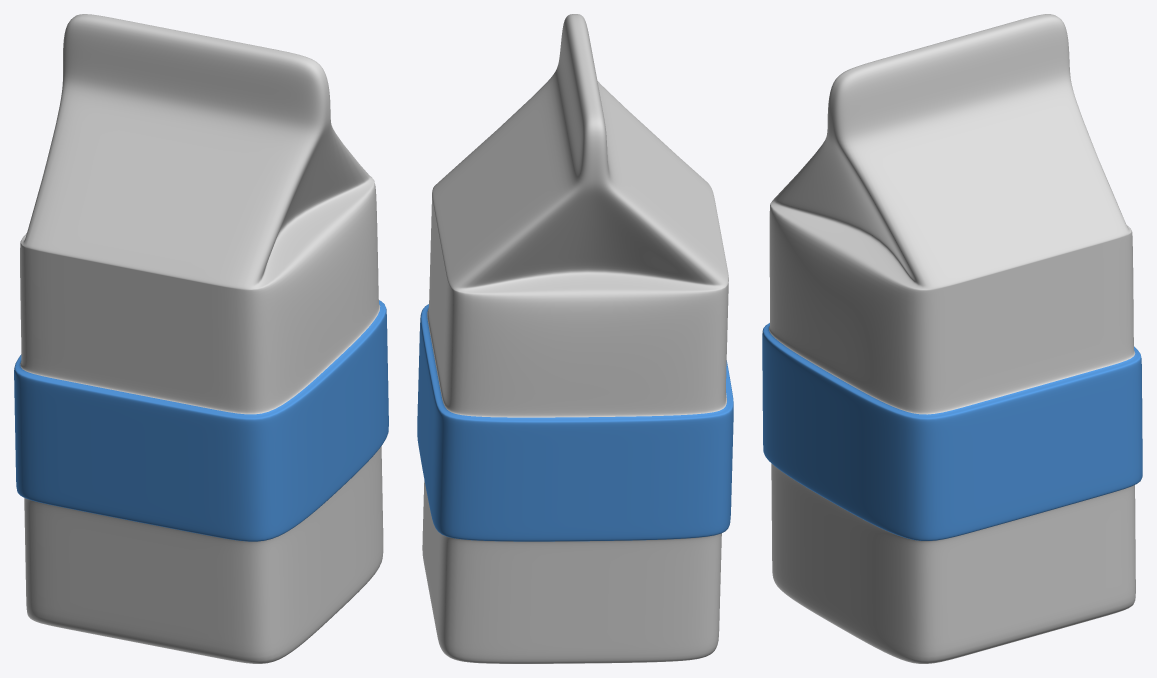
3 renders of one model, left to right at view 1: azimuth 30°, elevation 25°; view 2: azimuth 150°, elevation 25°; view 3: azimuth 270°, elevation 25°, orthographic. The views are drawn at different scales.
Parts seen in each view (by area): view 1: Cube.050; view 2: Cube.050; view 3: Cube.050.
Boxes of the visible parts, x1,y1,x2,y2 form: Cube.050: (14,14,388,663); Cube.050: (417,14,733,663); Cube.050: (762,14,1142,663).
Bounding box in the file's own units: 42.82 × 67.42 × 42.18.
